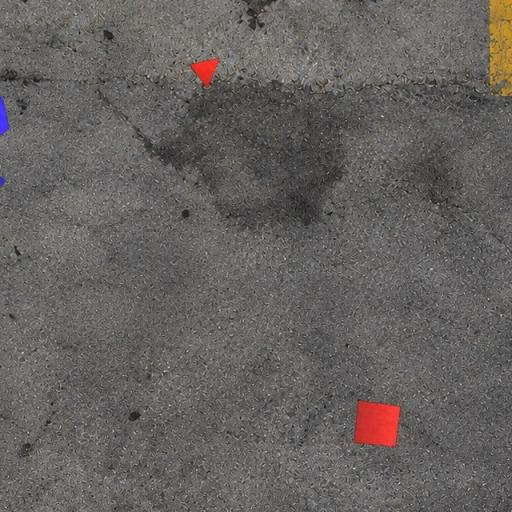RED_SQUARE: (352, 400, 402, 448)
